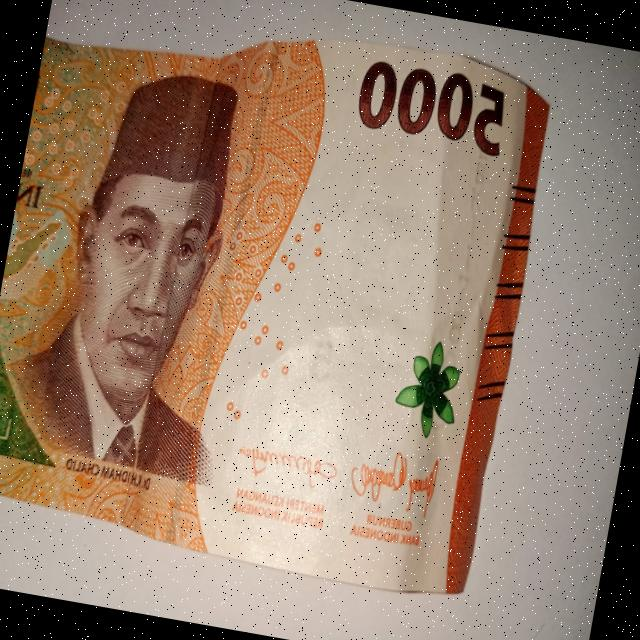5K: (0, 0, 567, 626)
